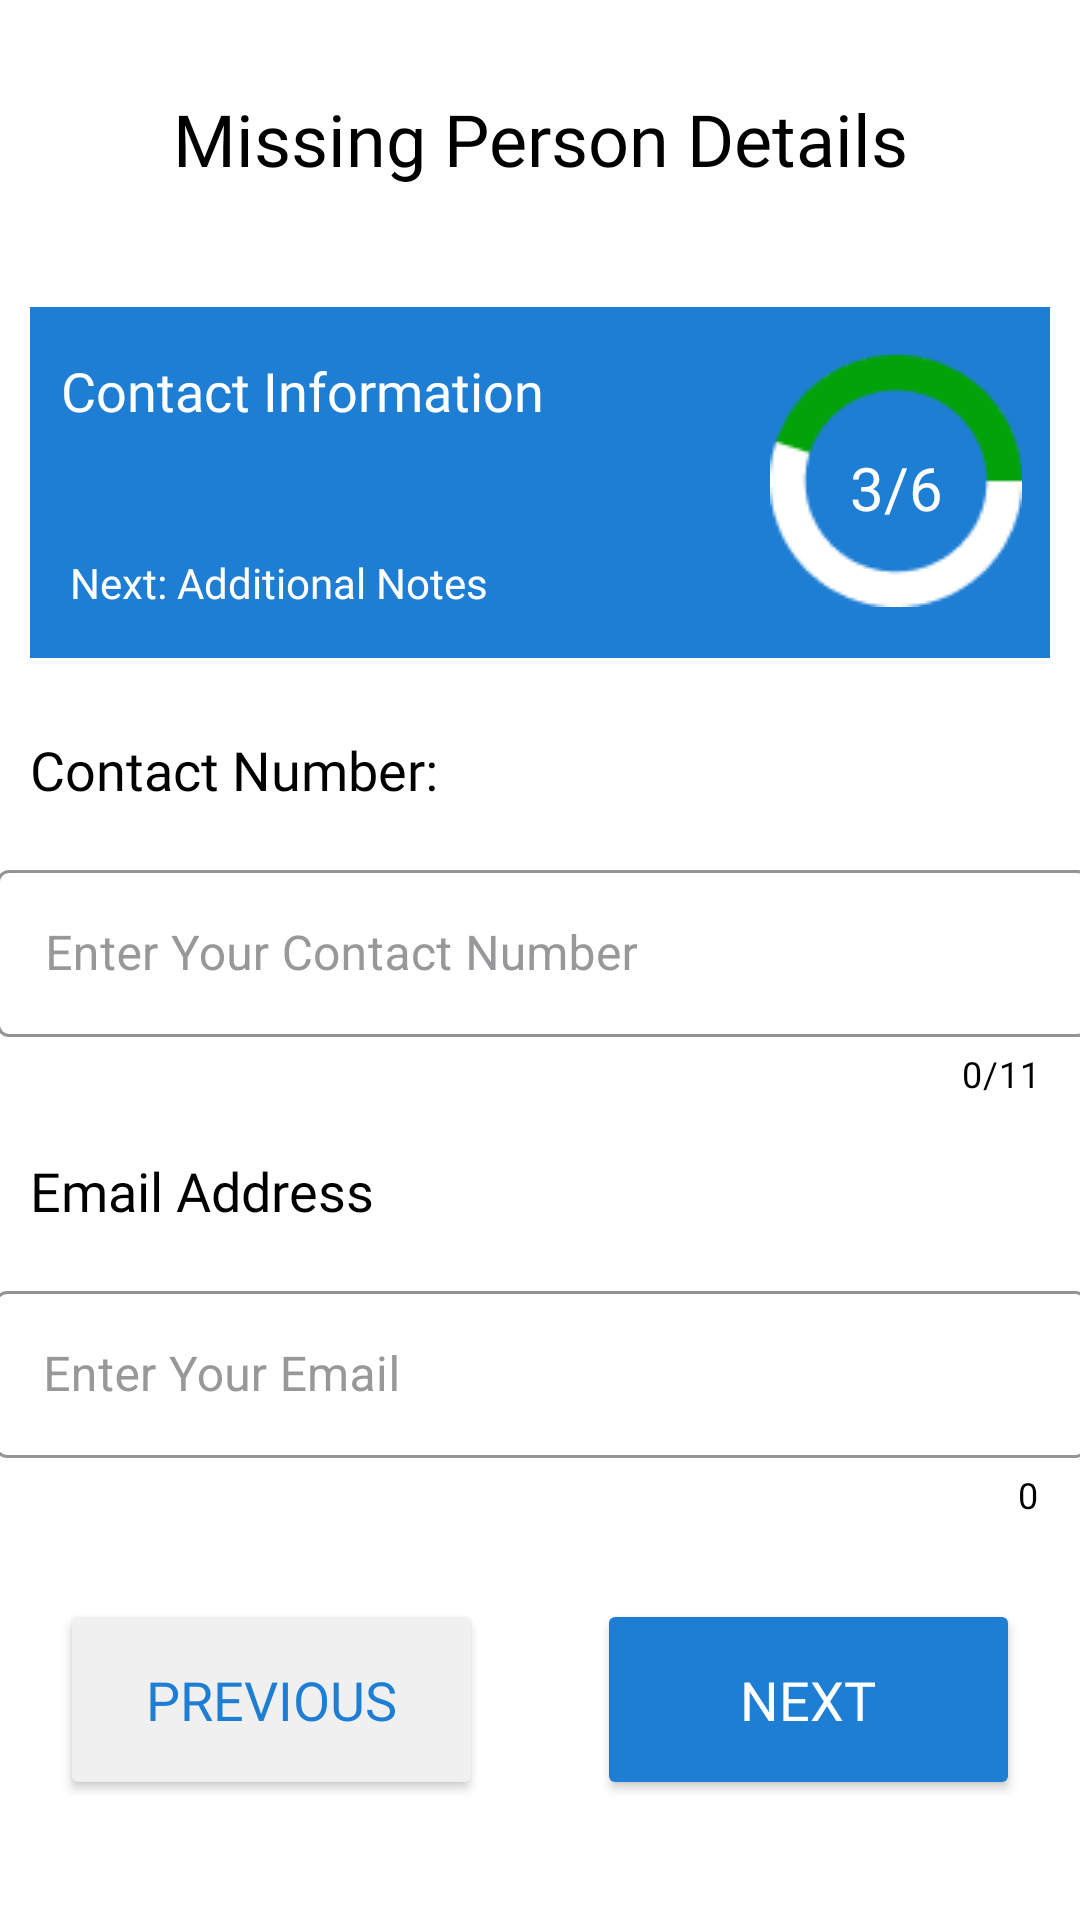

Named icons in this screenshot (1080px×1920px) and their bounding boxes, (x1, y1, x2, y2):
step: (770, 355, 1022, 607)
